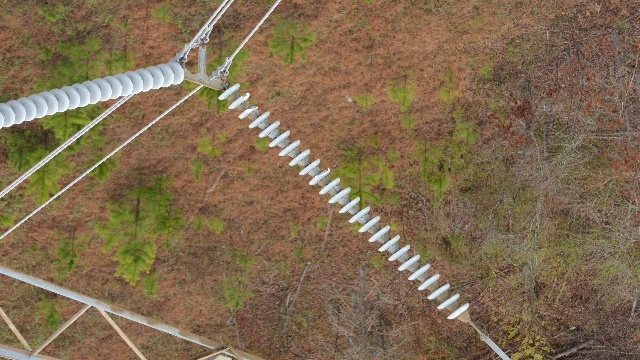broken_local: (318, 166, 330, 179)
insulator_unspecified: (219, 82, 469, 321), (0, 61, 185, 130)
